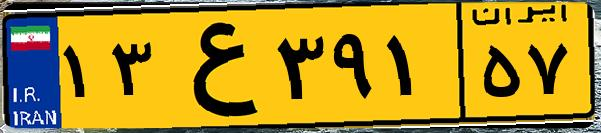1: (385, 28, 445, 110), (57, 26, 110, 100)
3: (270, 28, 330, 110), (110, 28, 158, 98)
5: (475, 38, 525, 113)
7: (525, 38, 570, 115)
9: (330, 28, 385, 110)
ع: (158, 12, 270, 120)
